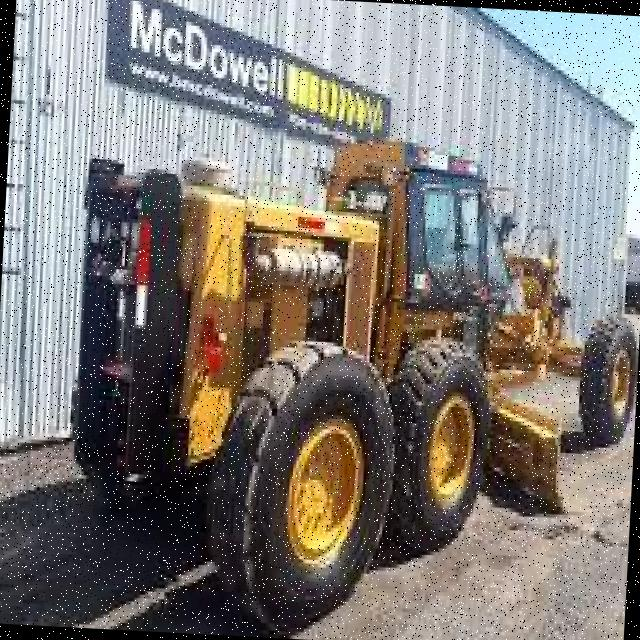Grader: (27, 98, 640, 640)
